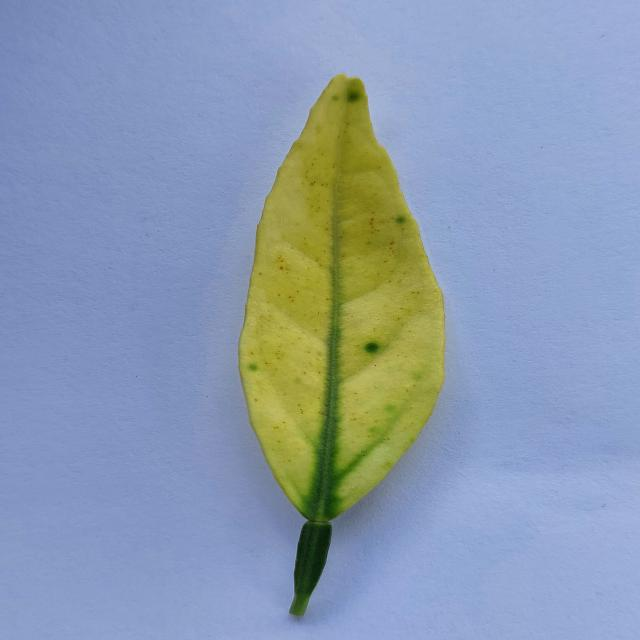greening: (239, 74, 445, 615)
